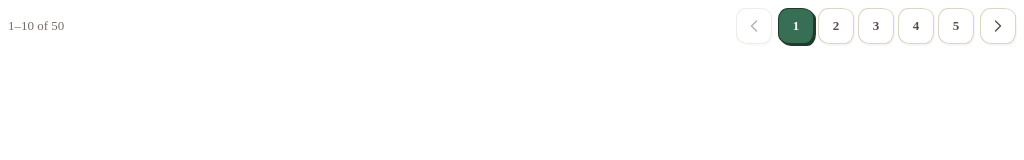
Scenario: Pagination › keeps its own page when uncontrolled
Click the button named "Page 3" at (876, 26), box [858,8,894,44]
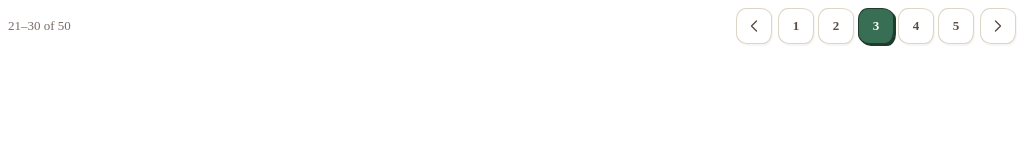
Check: the text "21–30 of 50" is shown, box [8,18,71,34]
